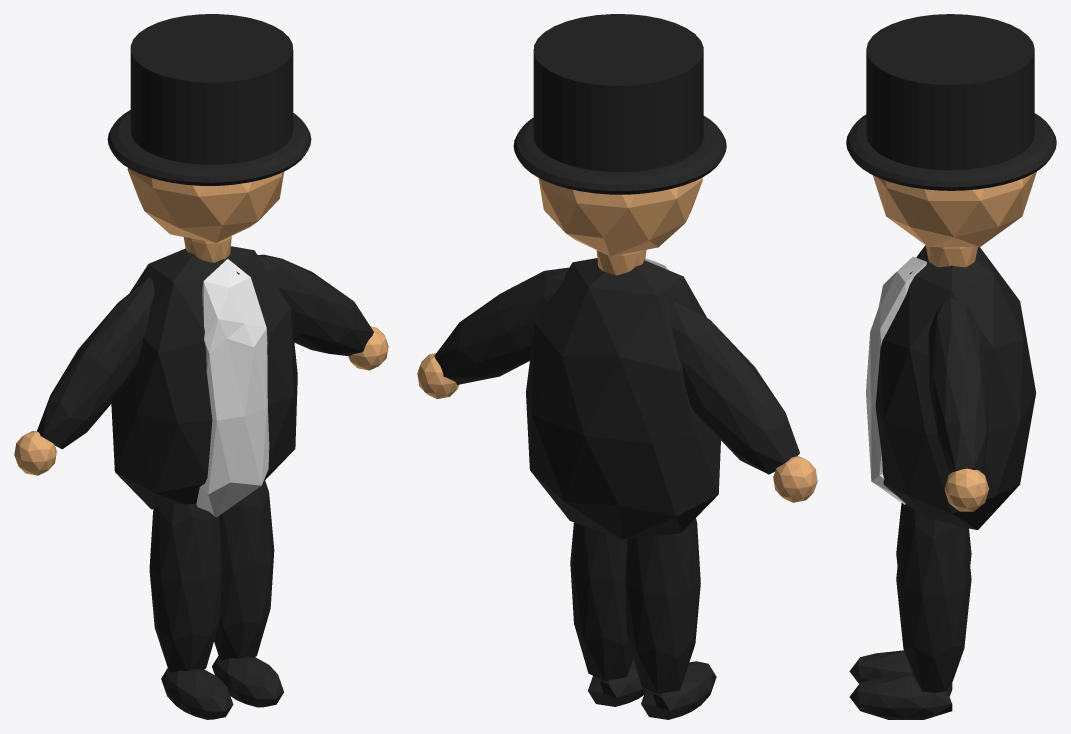
File: Cube Character.fbx
3 views of the same model, side by side, from view 1: azimuth 30°, elevation 25°; view 2: azimuth 150°, elevation 25°; view 3: azimuth 270°, elevation 25° (orthographic). The views are drawn at different scales.
Visible parts, largest first — view 1: Icosphere.002, Cylinder, Icosphere.003, Icosphere.008, Icosphere.007, Icosphere.004, Icosphere, Icosphere.005, Torus, Icosphere.009, Icosphere.006, Icosphere.001; view 2: Icosphere.002, Cylinder, Icosphere.008, Icosphere.004, Icosphere.007, Icosphere, Icosphere.005, Torus, Icosphere.009, Icosphere.006, Icosphere.001; view 3: Icosphere.002, Cylinder, Icosphere.007, Icosphere.005, Icosphere, Torus, Icosphere.003, Icosphere.008, Icosphere.006, Icosphere.001.
Part boxes in pixels (<box>): Icosphere.002: <box>111,246,297,509</box>; Cylinder: <box>130,14,293,164</box>; Icosphere.003: <box>196,259,269,517</box>; Icosphere.008: <box>149,503,233,719</box>; Icosphere.007: <box>212,480,283,707</box>; Icosphere.004: <box>37,277,154,449</box>; Icosphere: <box>127,168,284,242</box>; Icosphere.005: <box>257,254,373,356</box>; Torus: <box>107,110,311,185</box>; Icosphere.009: <box>14,430,56,475</box>; Icosphere.006: <box>348,326,388,370</box>; Icosphere.001: <box>183,236,231,262</box>; Icosphere.002: <box>526,258,720,539</box>; Cylinder: <box>533,14,703,171</box>; Icosphere.008: <box>625,518,716,719</box>; Icosphere.004: <box>669,299,799,474</box>; Icosphere.007: <box>570,522,645,706</box>; Icosphere: <box>538,177,702,256</box>; Icosphere.005: <box>434,267,568,384</box>; Torus: <box>513,116,726,194</box>; Icosphere.009: <box>773,456,817,502</box>; Icosphere.006: <box>417,353,458,398</box>; Icosphere.001: <box>596,249,646,275</box>; Icosphere.002: <box>875,245,1035,529</box>; Cylinder: <box>866,14,1034,170</box>; Icosphere.007: <box>849,504,971,719</box>; Icosphere.005: <box>928,298,988,473</box>; Icosphere: <box>872,171,1036,246</box>; Torus: <box>846,113,1056,190</box>; Icosphere.003: <box>866,256,926,504</box>; Icosphere.008: <box>849,503,971,683</box>; Icosphere.006: <box>944,468,988,511</box>; Icosphere.001: <box>925,245,977,267</box>.
Size of the model in its own units: 527 by 866 by 250.
